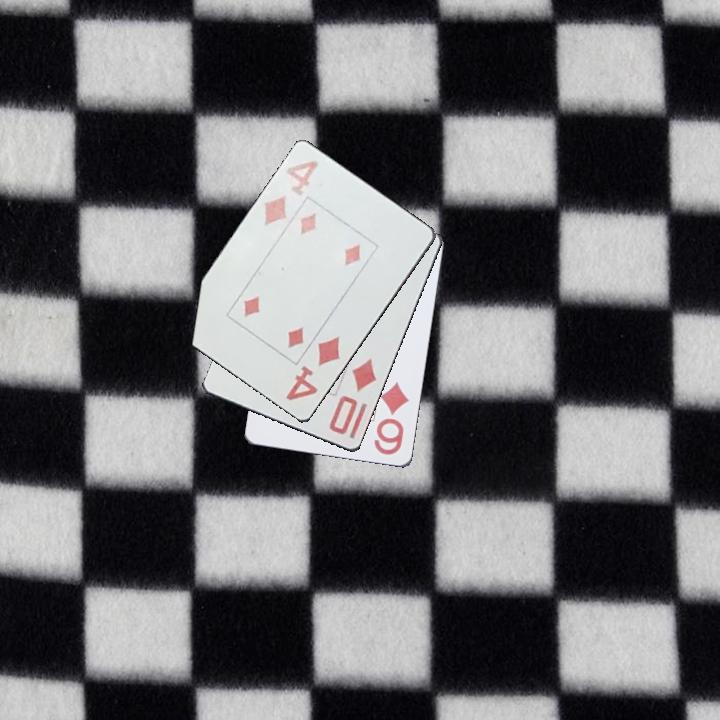4d: (282, 333, 345, 405), (259, 157, 321, 229)
6d: (371, 378, 412, 458)
Td: (326, 355, 380, 438)
